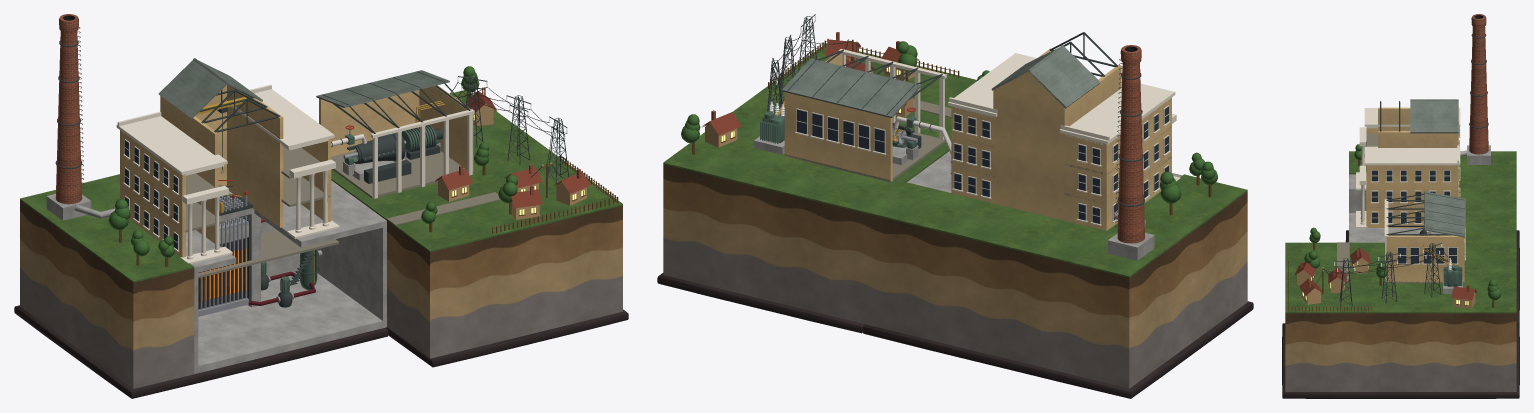
Rendered from obninsk-aes.glb.
3 views of the same model, side by side, from view 1: azimuth 30°, elevation 25°; view 2: azimuth 150°, elevation 25°; view 3: azimuth 270°, elevation 25° (orthographic). The views are drawn at different scales.
Visible parts, largest first — view 1: zemlya--setka, zdanie--setka, turbina--setka, truba--setka, posyolok--setka, reaktor--setka, lep--setka, kontur--setka, generator--setka; view 2: zemlya--setka, zdanie--setka, turbina--setka, truba--setka, posyolok--setka, lep--setka; view 3: zemlya--setka, zdanie--setka, turbina--setka, truba--setka, posyolok--setka, lep--setka.
Part boxes in pixels (x1,y1,x2,y2): zemlya--setka: [14, 66, 628, 398]; zdanie--setka: [116, 58, 386, 366]; turbina--setka: [316, 70, 474, 198]; truba--setka: [46, 14, 115, 220]; posyolok--setka: [435, 87, 618, 233]; reaktor--setka: [198, 180, 260, 316]; lep--setka: [450, 74, 568, 183]; kontur--setka: [248, 218, 322, 307]; generator--setka: [401, 97, 461, 159]; zemlya--setka: [657, 41, 1253, 398]; zdanie--setka: [907, 32, 1182, 230]; turbina--setka: [781, 49, 951, 182]; truba--setka: [1108, 45, 1154, 260]; posyolok--setka: [702, 32, 959, 147]; lep--setka: [754, 14, 817, 154]; zemlya--setka: [1282, 142, 1519, 398]; zdanie--setka: [1349, 99, 1460, 242]; turbina--setka: [1384, 191, 1465, 282]; truba--setka: [1460, 14, 1490, 164]; posyolok--setka: [1288, 248, 1476, 311]; lep--setka: [1334, 243, 1462, 306].
Size of the model in its own units: 6.72 by 4.37 by 4.12.
10 materials, 10 textured.
